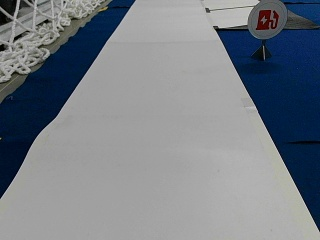battery: (247, 0, 288, 39)
